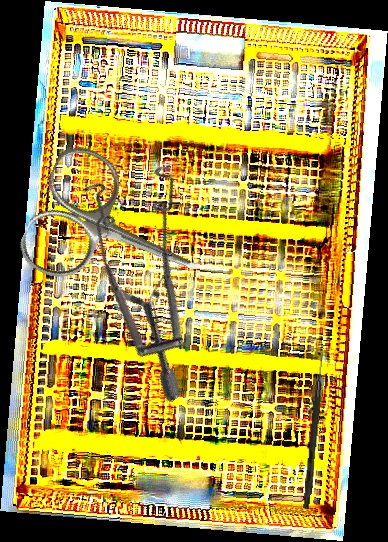Hook Surgical: (303, 350, 325, 510)
Iris Scissors: (12, 138, 224, 330)
Speculum: (30, 136, 288, 405)
